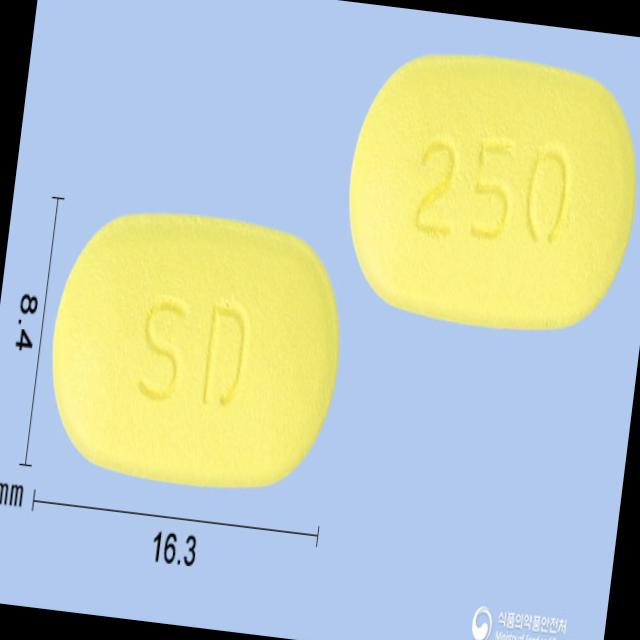Clabio - 500mg: (34, 192, 358, 511), (332, 37, 640, 350)
